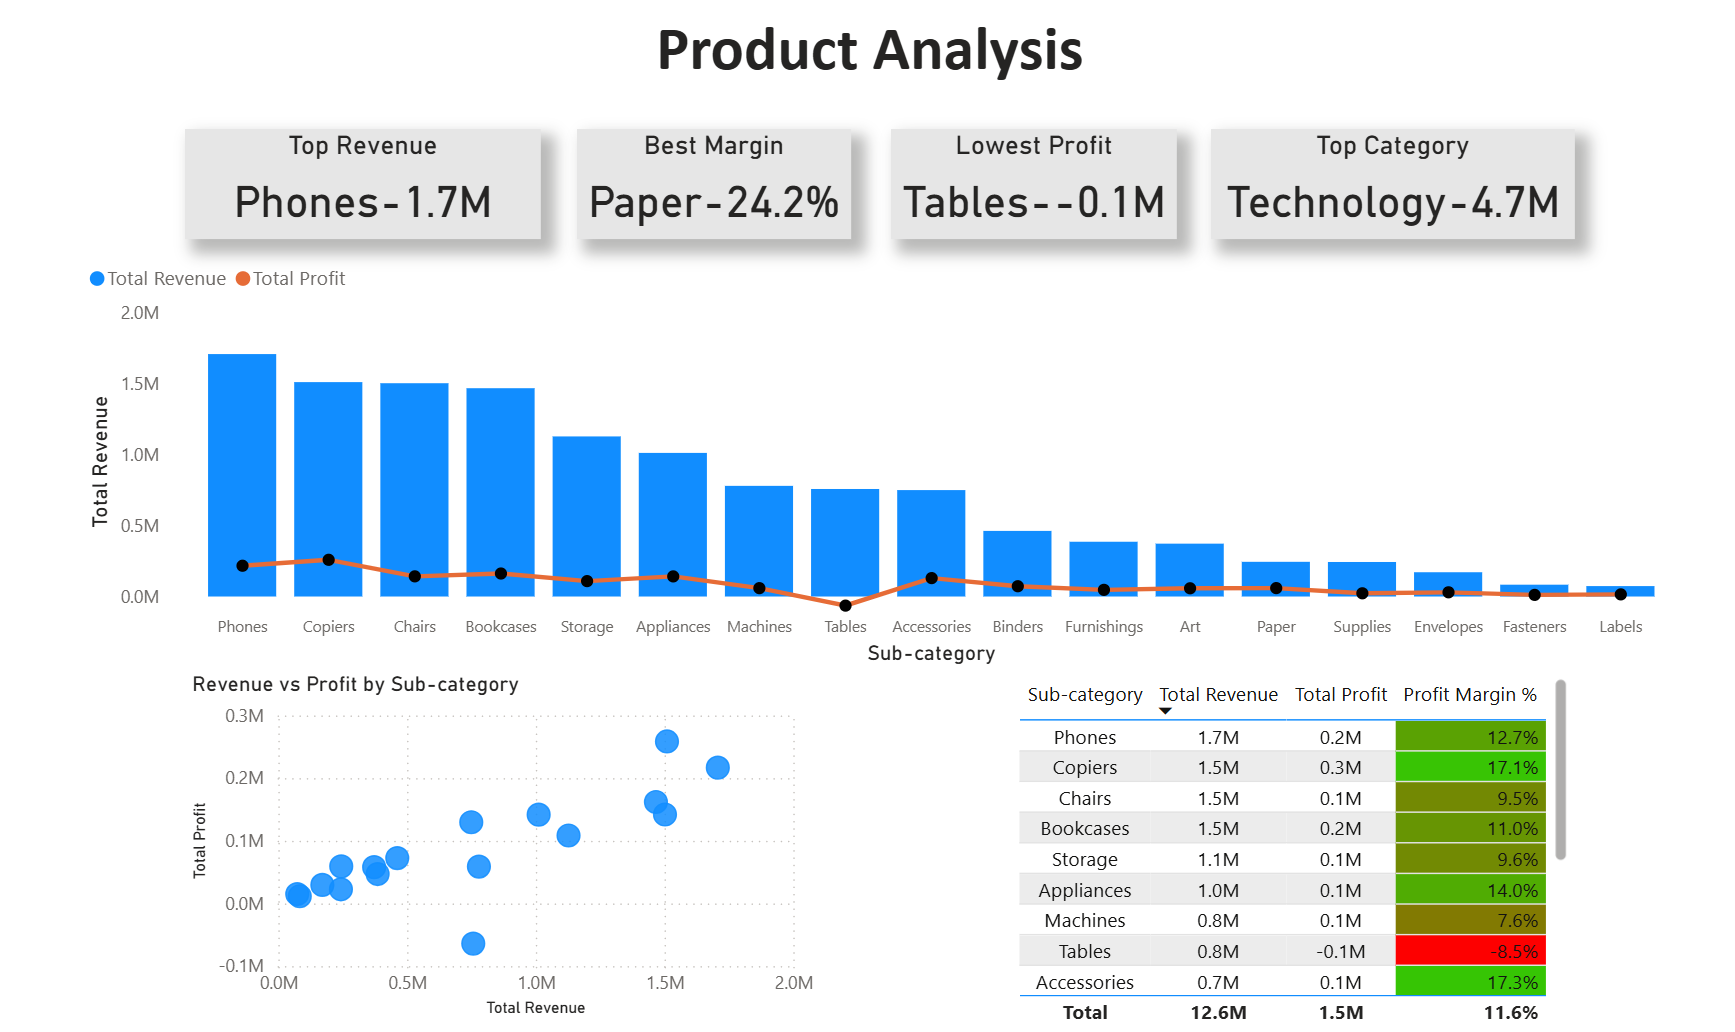

The dashboard page shown, as its layout file describes it:
{"tool":"powerbi","page":{"name":"Page 3","canvas":[1280,720],"ordinal":2},"visuals":[{"type":"textbox","box":[11,11,1268.6,61.7],"z":0},{"type":"lineClusteredColumnComboChart","fields":{"Category":["SuperStoreOrders.sub_category"],"Y":["SuperStoreOrders.Total Revenue"],"Y2":["SuperStoreOrders.Total Profit"]},"box":[100.1,179.7,1108.1,289.4],"z":1000},{"type":"tableEx","fields":{"Values":["SuperStoreOrders.sub_category","SuperStoreOrders.Total Revenue","SuperStoreOrders.Total Profit","SuperStoreOrders.Profit Margin %"]},"box":[737.8,469,386.7,248.2],"z":2000},{"type":"scatterChart","title":"Revenue vs Profit by Sub-category","fields":{"X":["SuperStoreOrders.Total Revenue"],"Y":["SuperStoreOrders.Total Profit"],"Category":["SuperStoreOrders.sub_category"]},"box":[171.4,469,436.1,241.4],"z":3000},{"type":"actionButton","box":[0,0,100,40],"z":4000},{"type":"card","title":"Top Revenue","fields":{"Values":["SuperStoreOrders.Top Revenue Sub-category"]},"box":[171.4,97.4,244.1,75.4],"z":5000},{"type":"card","title":"Best Margin","fields":{"Values":["SuperStoreOrders.Top Margin KPI"]},"box":[440.2,97.4,187.9,75.4],"z":6000},{"type":"card","title":"Lowest Profit","fields":{"Values":["SuperStoreOrders.Lowest Profit KPI"]},"box":[655.5,97.4,196.1,75.4],"z":7000},{"type":"card","title":"Top Category","fields":{"Values":["SuperStoreOrders.Top Performing Category"]},"box":[875,97.4,249.6,75.4],"z":8000}]}

Visuals, with their boxes on the page's 1280x720 design canvas (x1, y1, x2, y2). These are canvas units, not pixel positions in the 1735x1032 screenshot, which may show the page scaled, cropped or inside an application window:
textbox: locate(11, 11, 1280, 73)
lineClusteredColumnComboChart - SuperStoreOrders.sub_category x SuperStoreOrders.Total Revenue: locate(100, 180, 1208, 469)
tableEx - SuperStoreOrders.sub_category x SuperStoreOrders.Total Revenue: locate(738, 469, 1124, 717)
"Revenue vs Profit by Sub-category" scatterChart: locate(171, 469, 608, 710)
actionButton: locate(0, 0, 100, 40)
"Top Revenue" card: locate(171, 97, 416, 173)
"Best Margin" card: locate(440, 97, 628, 173)
"Lowest Profit" card: locate(656, 97, 852, 173)
"Top Category" card: locate(875, 97, 1125, 173)
